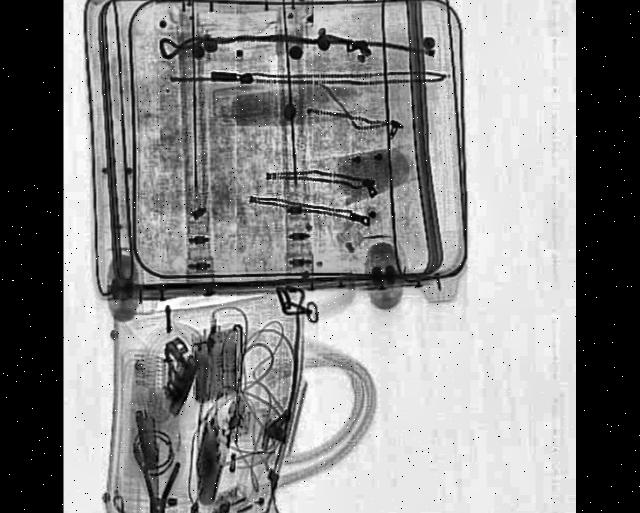Pliers: (141, 455, 183, 513)
